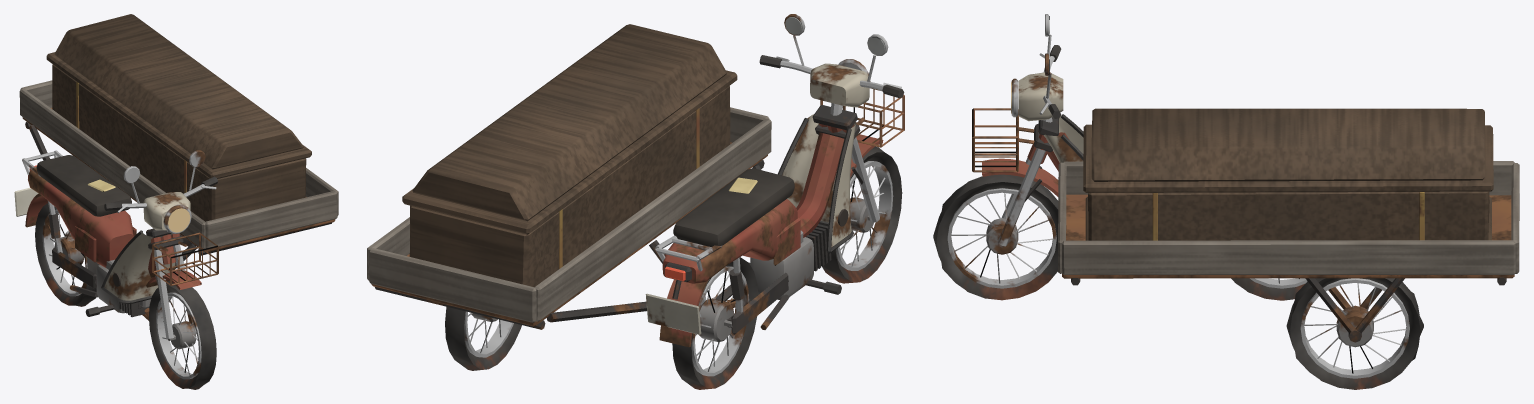
Rendered from Saleng.fbx.
The picture shows the model from 3 angles, left to right: view 1: azimuth 30°, elevation 25°; view 2: azimuth 150°, elevation 25°; view 3: azimuth 270°, elevation 25°; orthographic projection. The views are drawn at different scales.
Visible parts, largest first — view 1: Saleng, OldCoffin_Lid, OldCoffin, Handlebar, FrontWheel, RearWheel, LicensePlate, Headlight_Neon; view 2: Saleng, OldCoffin_Lid, OldCoffin, Handlebar, RearWheel, FrontWheel, SidecarWheel, LicensePlate; view 3: OldCoffin_Lid, Saleng, OldCoffin, FrontWheel, Handlebar, SidecarWheel, RearWheel.
Boxes of the visible parts, x1,y1,x2,y2 form: Saleng: (19,80,338,320); OldCoffin_Lid: (46,14,311,178); OldCoffin: (52,64,306,221); Handlebar: (104,150,218,338); FrontWheel: (148,281,216,389); RearWheel: (35,203,99,306); LicensePlate: (14,187,38,216); Headlight_Neon: (168,208,190,232); Saleng: (367,107,856,347); OldCoffin_Lid: (402,24,737,234); OldCoffin: (409,86,730,287); Handlebar: (759,14,904,222); RearWheel: (672,257,758,389); FrontWheel: (822,146,902,283); SidecarWheel: (445,306,521,370); LicensePlate: (645,293,701,334); OldCoffin_Lid: (1083,108,1493,192); Saleng: (1027,114,1519,342); OldCoffin: (1085,191,1491,240); FrontWheel: (933,174,1058,300); Handlebar: (972,14,1063,246); SidecarWheel: (1286,278,1423,389); RearWheel: (1231,278,1307,300).
Size of the model in its own units: 142 by 123 by 246.
Materials: 1 (1 with a texture image).
